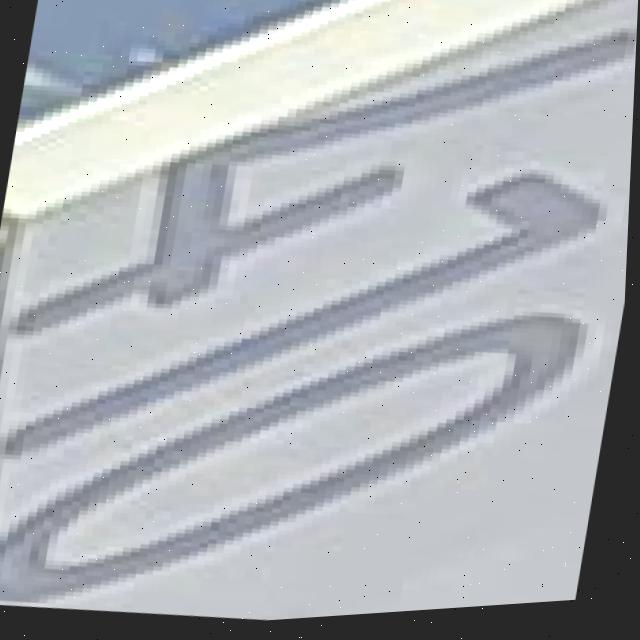character: (0, 97, 621, 534), (0, 0, 640, 415), (0, 235, 602, 640)
